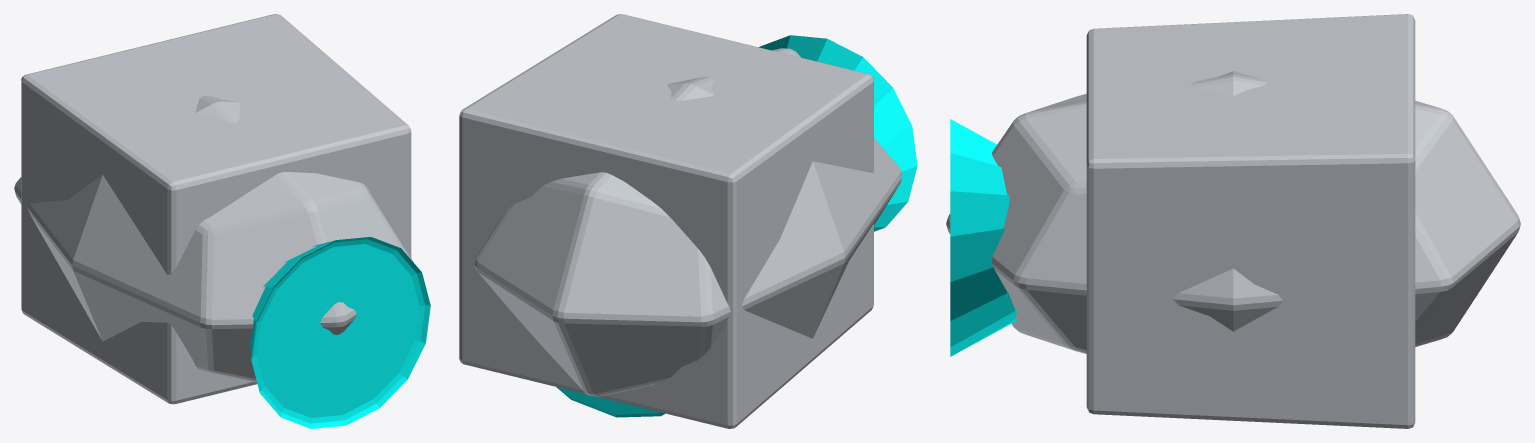
The model's file is Engines_03.glb.
3 views of the same model, side by side, from view 1: azimuth 30°, elevation 25°; view 2: azimuth 150°, elevation 25°; view 3: azimuth 270°, elevation 25° (orthographic). The views are drawn at different scales.
Visible parts, largest first — view 1: Engines_03_gltf_export_temp; view 2: Engines_03_gltf_export_temp; view 3: Engines_03_gltf_export_temp.
Boxes of the visible parts, x1,y1,x2,y2 form: Engines_03_gltf_export_temp: (14, 14, 430, 428); Engines_03_gltf_export_temp: (459, 14, 917, 428); Engines_03_gltf_export_temp: (946, 14, 1520, 428).
Size of the model in its own units: 0.6365 by 0.5361 by 0.9511.
